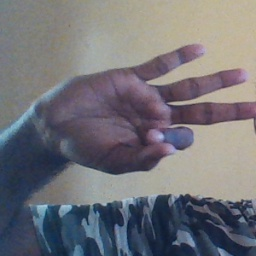K: (34, 42, 256, 178)
